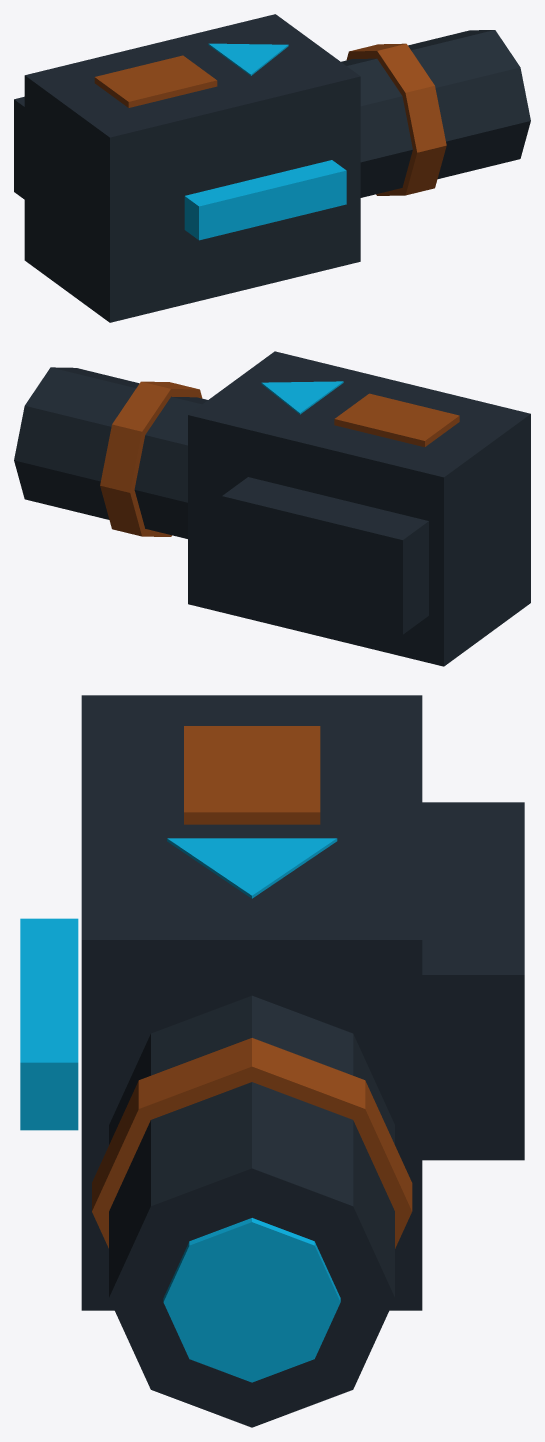
The model's file is SM_D03Emitter.obj.
The picture shows the model from 3 angles, top to bottom: view 1: azimuth 30°, elevation 25°; view 2: azimuth 150°, elevation 25°; view 3: azimuth 270°, elevation 25°; orthographic projection. The views are drawn at different scales.
Visible parts, largest first — view 1: SM_D03Emitter_Metal, SM_D03Emitter_Copper, SM_D03Emitter_Glow; view 2: SM_D03Emitter_Metal, SM_D03Emitter_Copper, SM_D03Emitter_Glow; view 3: SM_D03Emitter_Metal, SM_D03Emitter_Glow, SM_D03Emitter_Copper.
Part boxes in pixels (bbox=[...]): SM_D03Emitter_Metal: bbox=[14, 14, 530, 322]; SM_D03Emitter_Copper: bbox=[94, 43, 446, 195]; SM_D03Emitter_Glow: bbox=[184, 43, 346, 240]; SM_D03Emitter_Metal: bbox=[14, 351, 530, 666]; SM_D03Emitter_Copper: bbox=[100, 381, 459, 536]; SM_D03Emitter_Glow: bbox=[261, 381, 343, 414]; SM_D03Emitter_Metal: bbox=[81, 695, 524, 1427]; SM_D03Emitter_Glow: bbox=[20, 838, 340, 1382]; SM_D03Emitter_Copper: bbox=[92, 726, 412, 1248].
Bounding box in the file's own units: 29.3 × 13 × 14.8.
